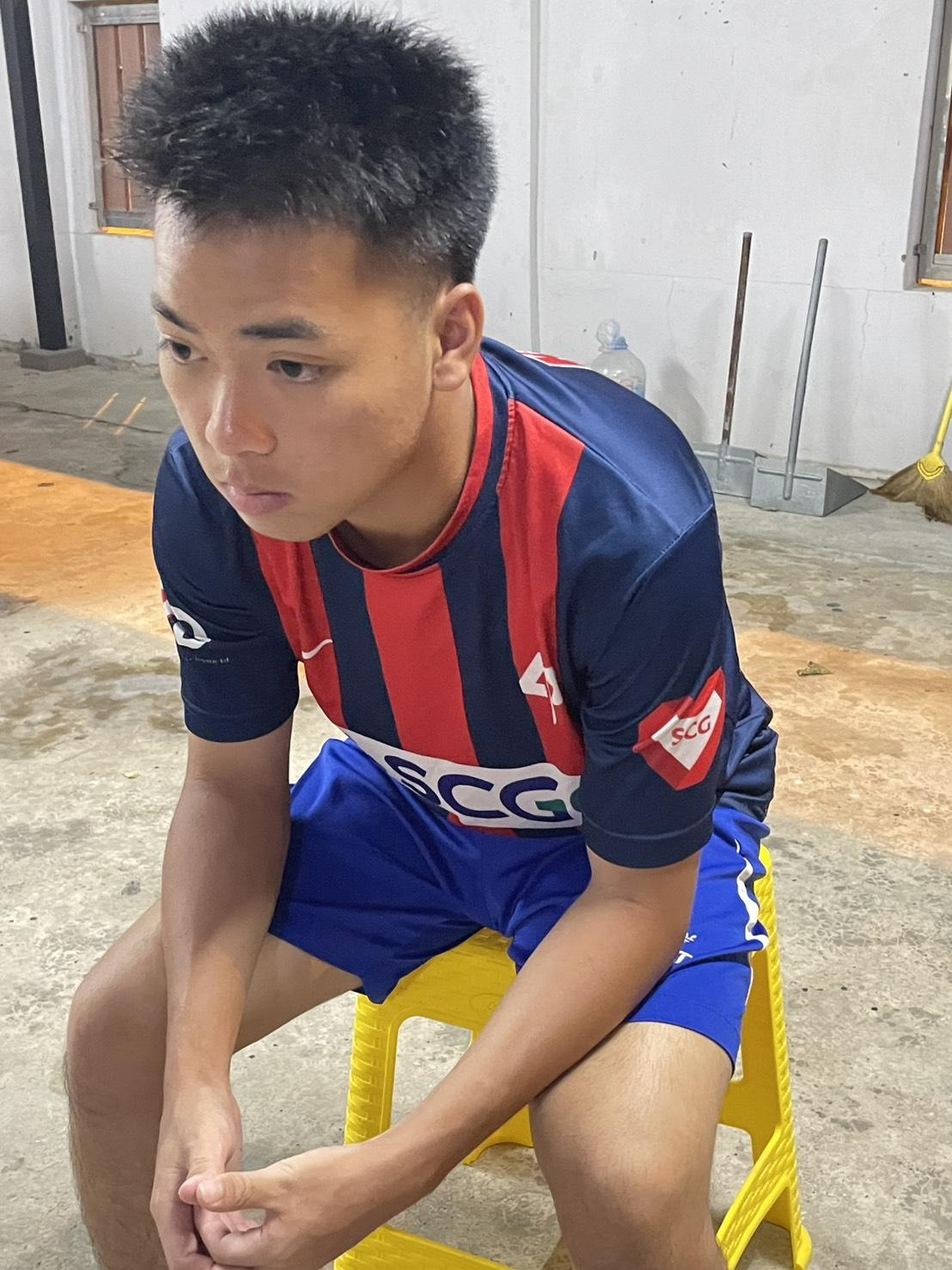BadPosture: (65, 6, 777, 1269)
